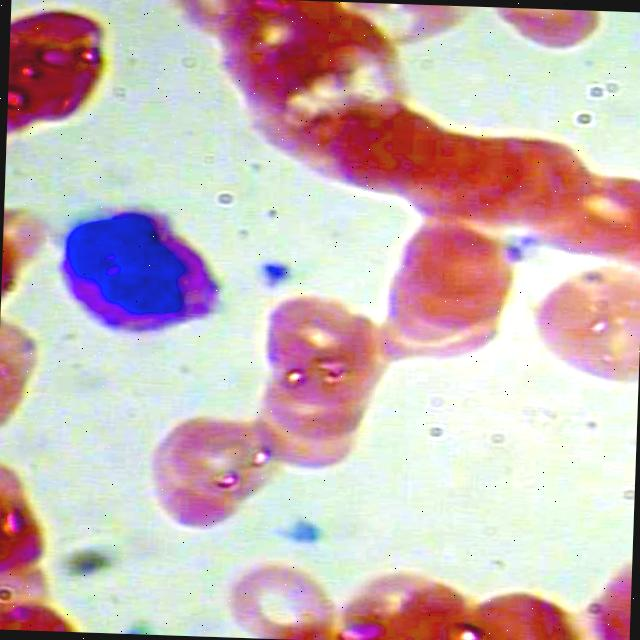Platelets: (256, 255, 297, 288), (283, 516, 324, 548)
RBC: (517, 254, 640, 402), (147, 404, 281, 532), (7, 0, 123, 126), (246, 288, 382, 389), (319, 100, 441, 202), (205, 555, 338, 640), (386, 217, 506, 309), (523, 167, 640, 261), (337, 551, 459, 640), (260, 362, 367, 448), (461, 573, 582, 640)
WBC: (52, 194, 236, 348)
